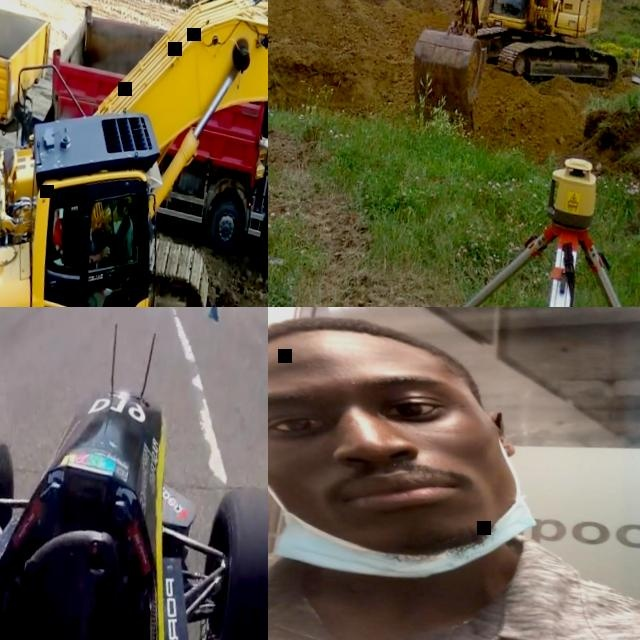NO-Hardhat: (268, 307, 474, 398)
NO-Mask: (268, 415, 518, 561)
NO-Safety Vest: (268, 522, 640, 640), (89, 232, 95, 256)
Person: (268, 307, 640, 640), (82, 205, 127, 296)
Safety Cone: (205, 307, 224, 318)
Safety Vest: (50, 218, 68, 258)
machinery: (0, 0, 268, 307), (32, 0, 268, 269), (405, 0, 640, 145)
vehicle: (0, 365, 268, 640)
